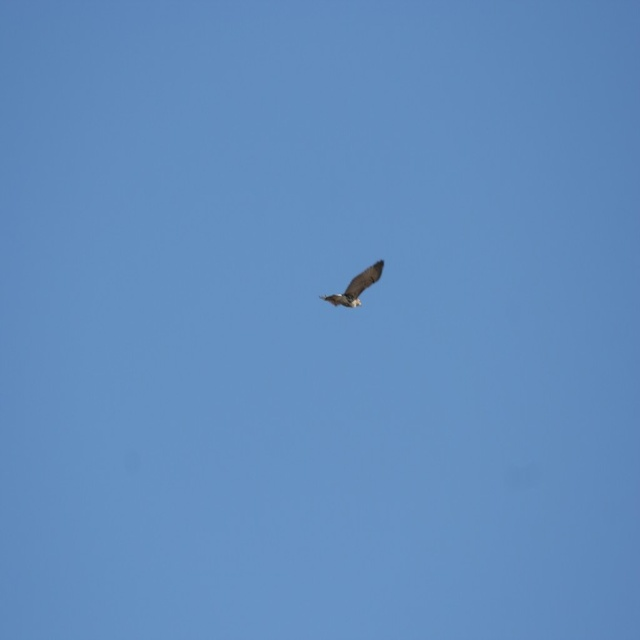Eagle: (321, 254, 386, 322)
